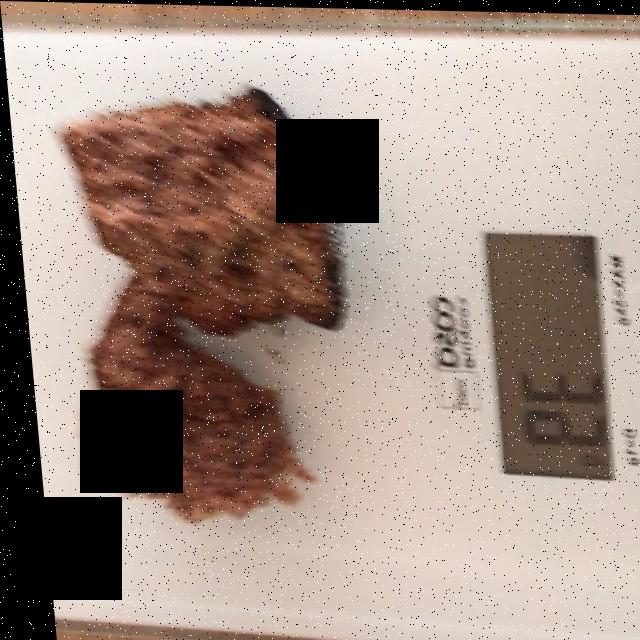cake-chocolate: (62, 91, 332, 514)
